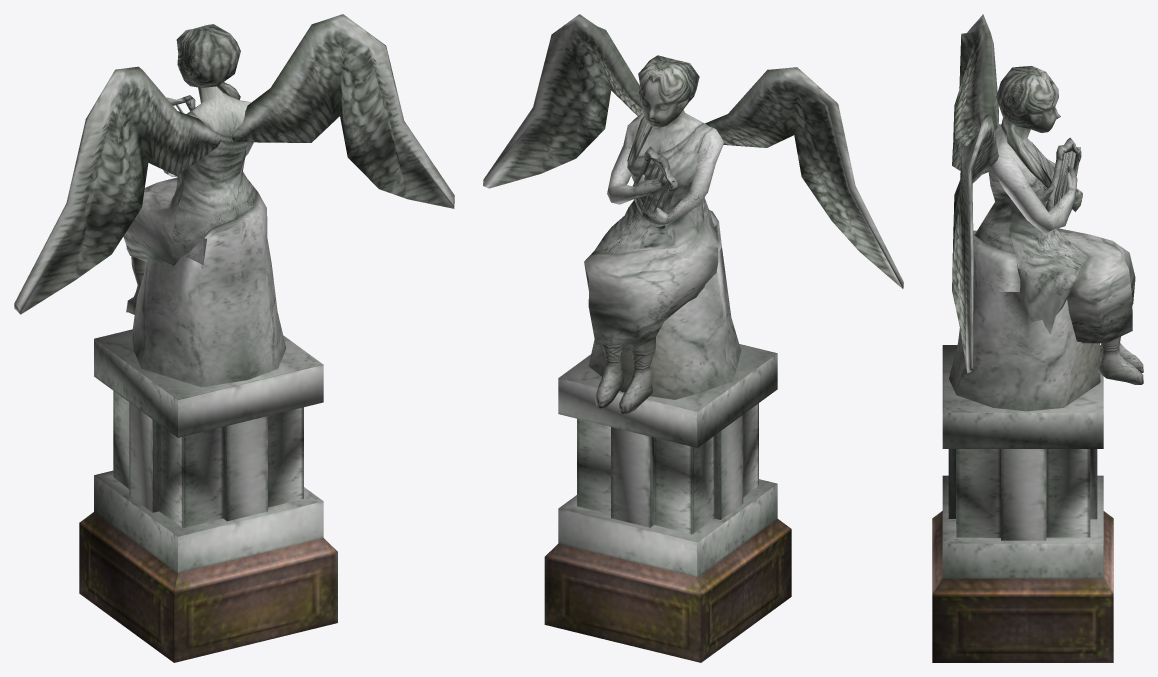
The model's file is a_SWTcgen01.glb.
The picture shows the model from 3 angles, left to right: view 1: azimuth 30°, elevation 25°; view 2: azimuth 150°, elevation 25°; view 3: azimuth 270°, elevation 25°; orthographic projection. The views are drawn at different scales.
Visible parts, largest first — view 1: a_SWTcgen01; view 2: a_SWTcgen01; view 3: a_SWTcgen01.
Part boxes in pixels (box(x1,y1,x2,y2)): a_SWTcgen01: box(14, 14, 454, 662); a_SWTcgen01: box(483, 14, 903, 662); a_SWTcgen01: box(932, 14, 1143, 662).
Size of the model in its own units: 2.39 by 3.02 by 1.04.
2 materials, 2 textured.
